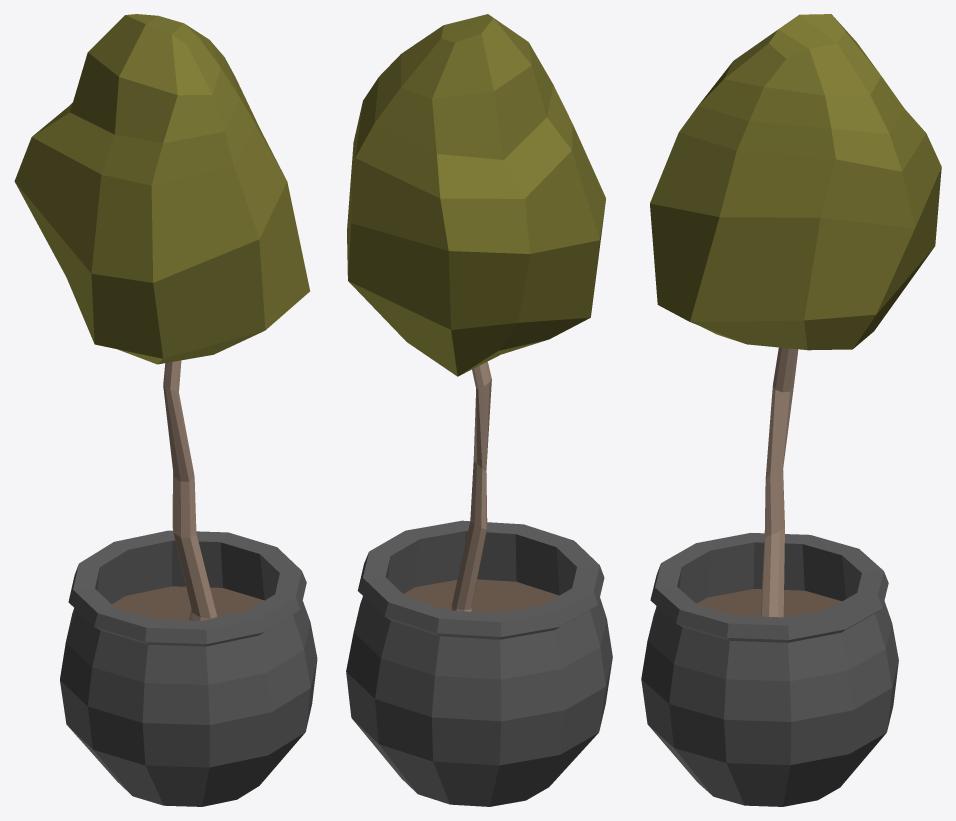
Rendered from Tree_3.fbx.
The picture shows the model from 3 angles, left to right: view 1: azimuth 30°, elevation 25°; view 2: azimuth 150°, elevation 25°; view 3: azimuth 270°, elevation 25°; orthographic projection. The views are drawn at different scales.
Parts seen in each view (by area): view 1: Tree_3; view 2: Tree_3; view 3: Tree_3.
Part boxes in pixels (<box>): Tree_3: <box>14,14,317,806</box>; Tree_3: <box>346,14,612,806</box>; Tree_3: <box>641,14,941,806</box>.
Bounding box in the file's own units: 63.43 × 73.97 × 203.
